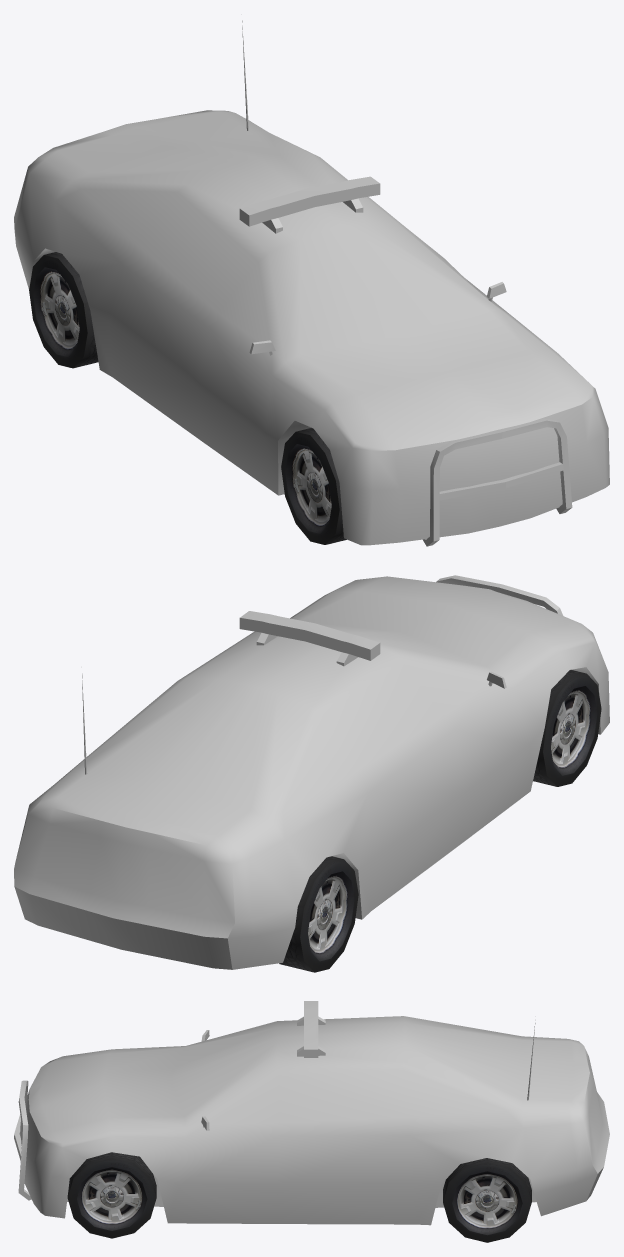
The model's file is police_car.fbx.
3 views of the same model, one above another, from view 1: azimuth 30°, elevation 25°; view 2: azimuth 150°, elevation 25°; view 3: azimuth 270°, elevation 25° (orthographic). The views are drawn at different scales.
Visible parts, largest first — view 1: body, rear_left, front_left; view 2: body, rear_left, front_left; view 3: body, front_right, rear_right.
Part boxes in pixels (box(x1,y1,x2,y2)): body: box(14, 20, 609, 546); rear_left: box(29, 252, 98, 368); front_left: box(281, 428, 346, 544); body: box(14, 575, 609, 969); rear_left: box(279, 856, 358, 972); front_left: box(533, 670, 601, 786); body: box(14, 1001, 609, 1225); front_right: box(67, 1152, 156, 1238); rear_right: box(443, 1158, 531, 1242).
Bounding box in the file's own units: 288 × 275 × 713.
